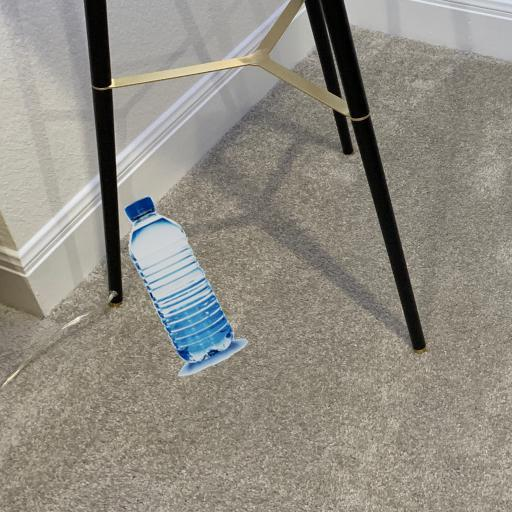bottle: (0, 271, 101, 305)
